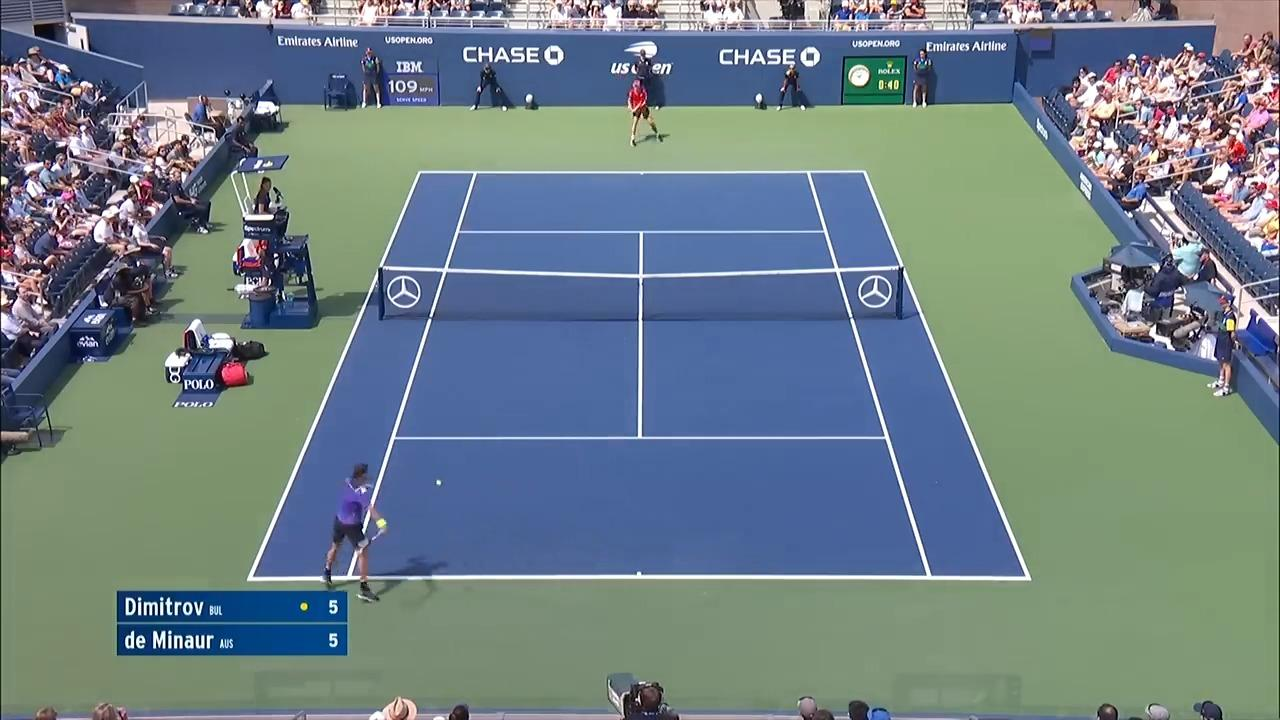tennis ball: (435, 479, 442, 487)
